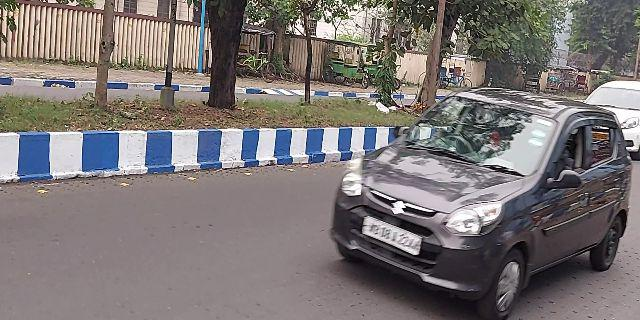Car: (337, 93, 633, 312), (580, 72, 640, 165)
